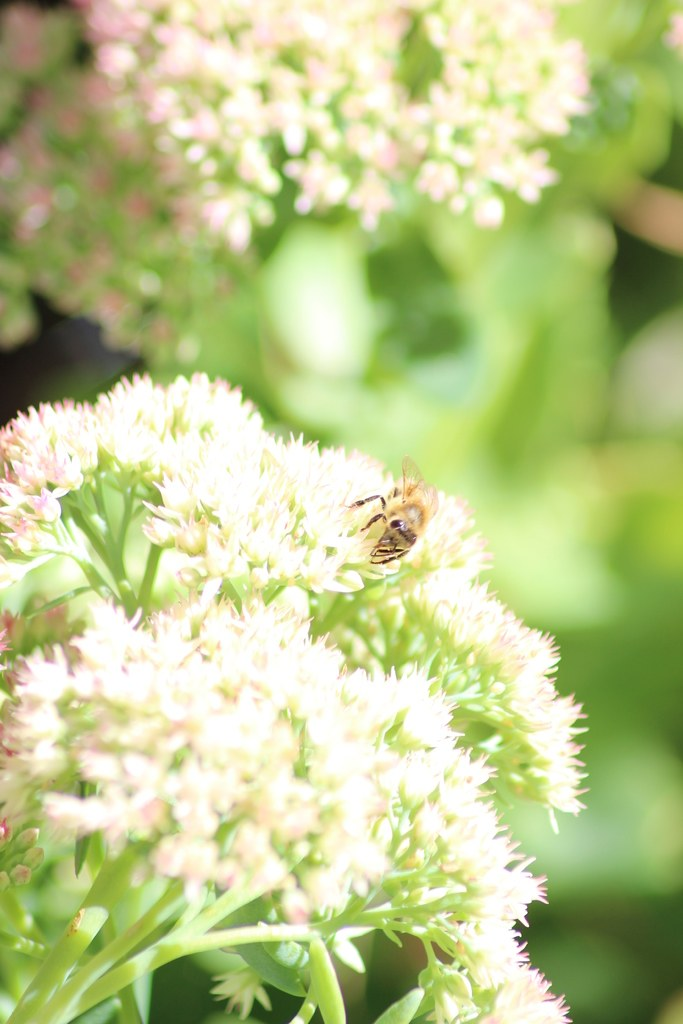bee: (347, 456, 434, 565)
